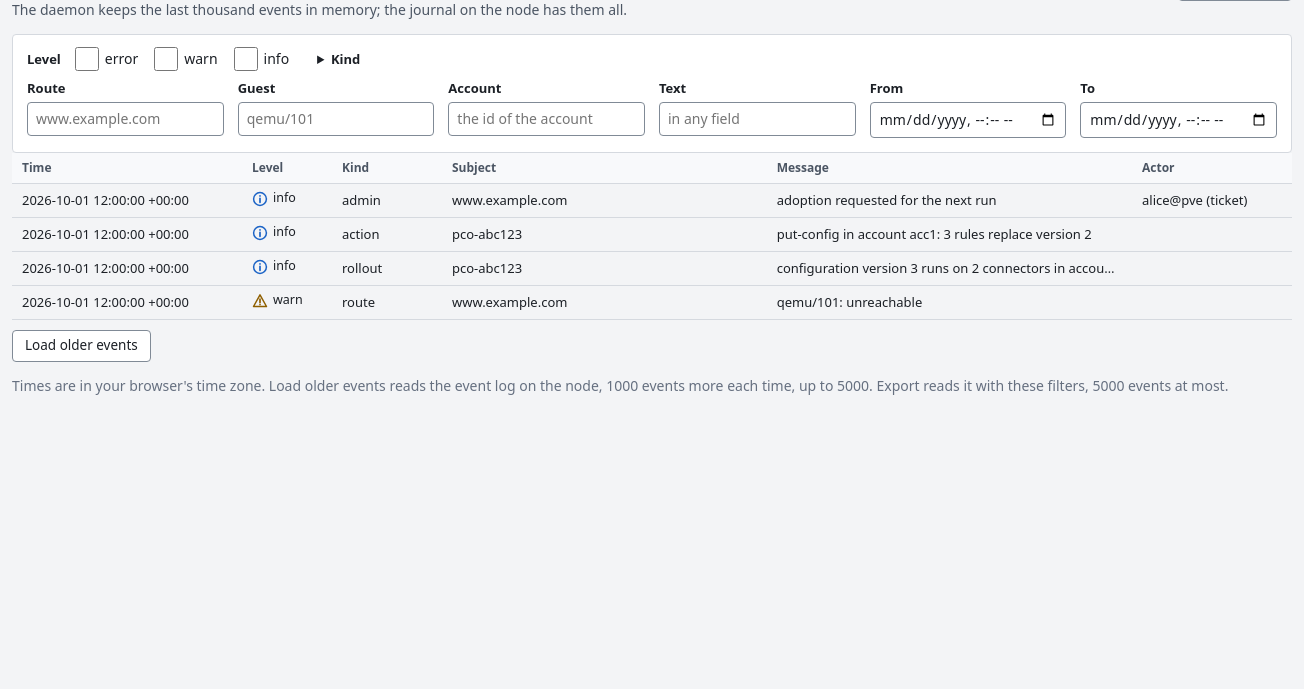
it: Load older events › a read as long as it asked for says that the list may go on beyond it
The width and height of the screenshot is (1304, 689).
What coordinates should you click on to do the following:
click the button "Load older events"
I would click on:
 (81, 346)
Its box is [12,330,151,362].
(page scrolled)
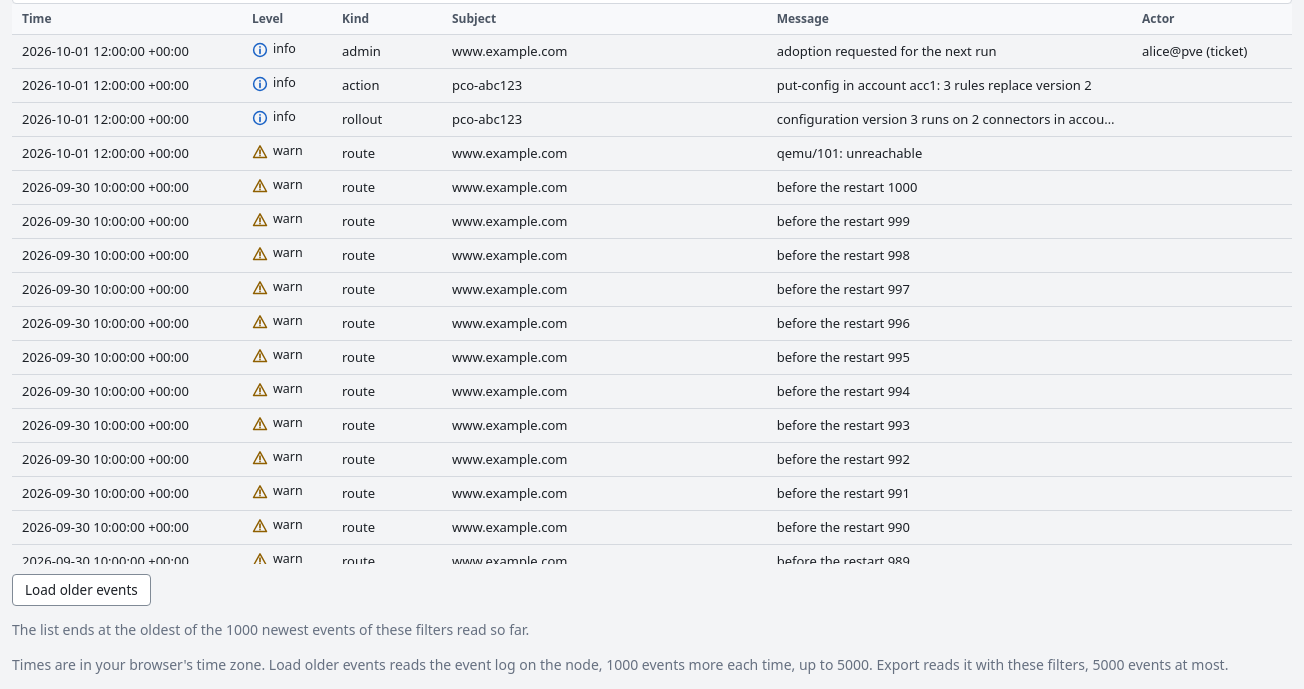
Check: the text "The list ends at the oldest of the 1000 newest events of these filters read so far." is shown, box [12,620,529,639]
